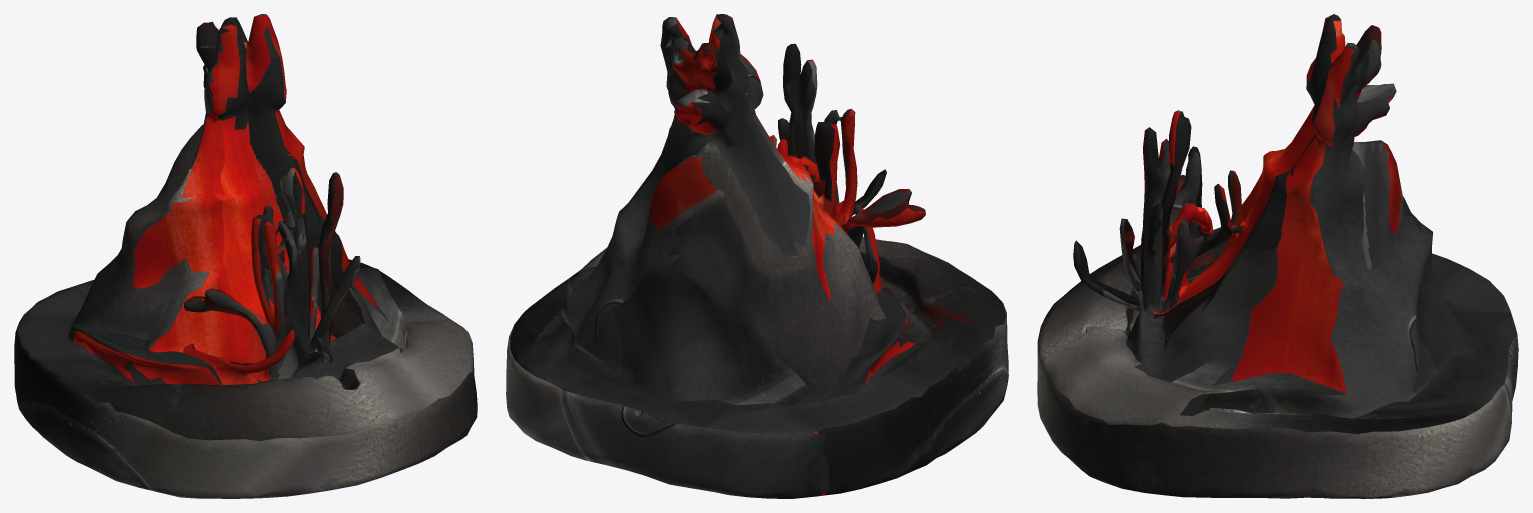
3 views of the same model, side by side, from view 1: azimuth 30°, elevation 25°; view 2: azimuth 150°, elevation 25°; view 3: azimuth 270°, elevation 25° (orthographic). The views are drawn at different scales.
Visible parts, largest first — view 1: texture_mapping; view 2: texture_mapping; view 3: texture_mapping.
Boxes of the visible parts, x1,y1,x2,y2 form: texture_mapping: [14, 14, 477, 498]; texture_mapping: [506, 14, 1008, 498]; texture_mapping: [1037, 14, 1518, 498].
Bounding box in the file's own units: 0.9615 × 0.9354 × 1.
